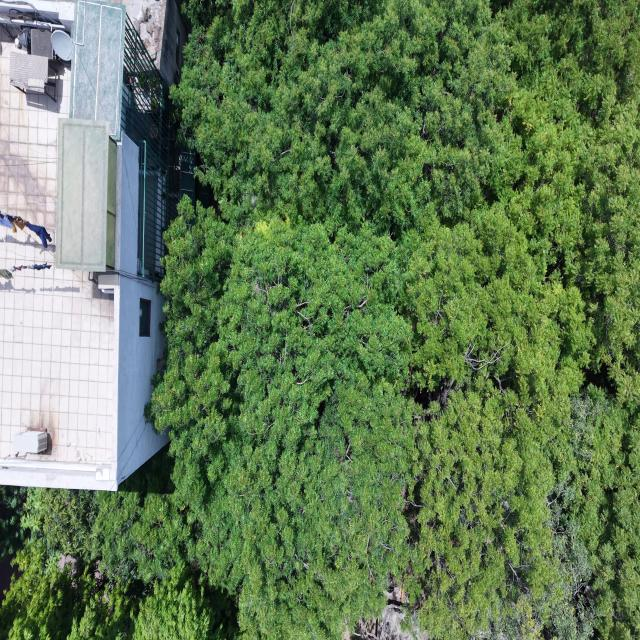ROOFTOP_BUILDING: (0, 0, 185, 489)
VEGETATION_TREE: (0, 0, 639, 639), (0, 486, 26, 562)
